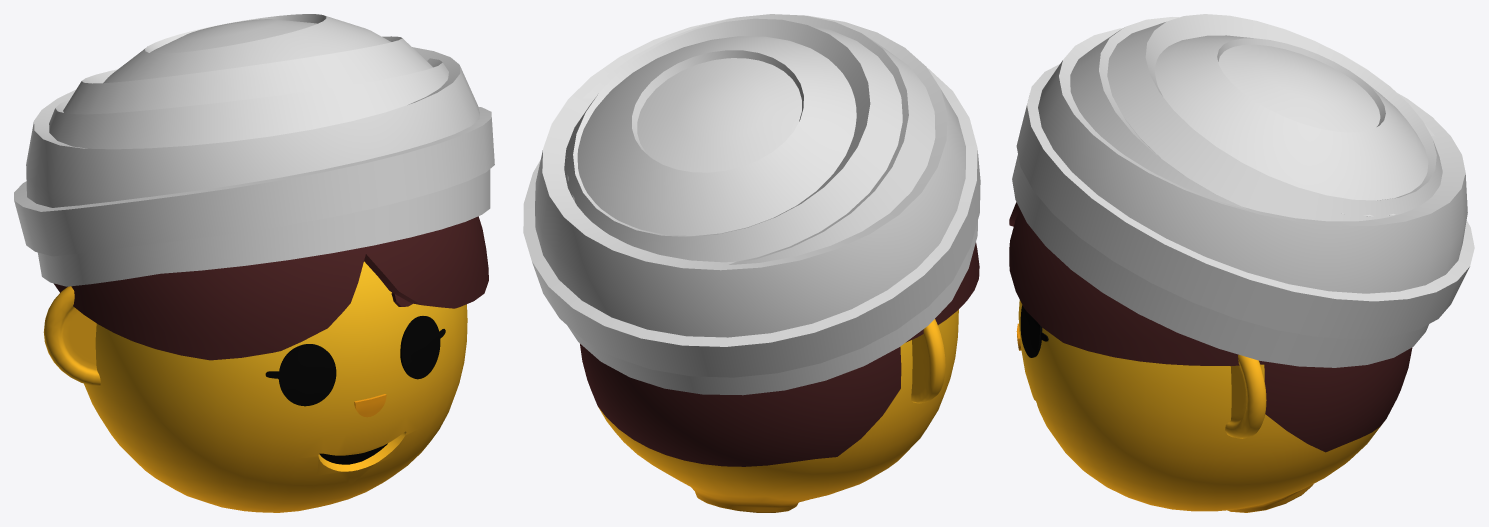
Rendered from woman_wearing_turban.fbx.
3 renders of one model, left to right at view 1: azimuth 30°, elevation 25°; view 2: azimuth 150°, elevation 25°; view 3: azimuth 270°, elevation 25°, orthographic. The views are drawn at different scales.
Parts seen in each view (by area): view 1: Sphere.139, Roundcube.166, Roundcube.167, Circle.847, Cylinder.137; view 2: Sphere.139, Roundcube.166, Cylinder.137, Roundcube.167; view 3: Sphere.139, Roundcube.166, Roundcube.167, Cylinder.137, Circle.847.
Boxes of the visible parts, box(x1,y1,x2,y2) form: Sphere.139: box(14, 14, 494, 286); Roundcube.166: box(84, 261, 467, 512); Roundcube.167: box(53, 216, 488, 360); Circle.847: box(278, 316, 440, 406); Cylinder.137: box(43, 286, 100, 386); Sphere.139: box(523, 14, 980, 395); Roundcube.166: box(580, 309, 958, 512); Cylinder.137: box(911, 319, 945, 403); Roundcube.167: box(906, 243, 979, 342); Sphere.139: box(1012, 14, 1474, 367); Roundcube.166: box(1018, 300, 1412, 512); Roundcube.167: box(1009, 202, 1275, 365); Cylinder.137: box(1225, 354, 1266, 438); Circle.847: box(1020, 305, 1042, 357).
Bounding box in the file's own units: 181 × 192 × 178.
2 materials, 2 textured.
